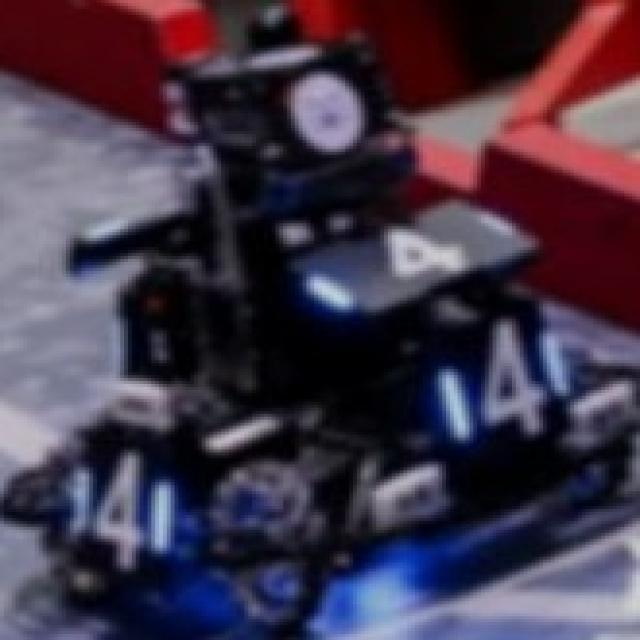B4: (295, 205, 527, 312), (442, 318, 570, 444), (58, 444, 175, 568)
